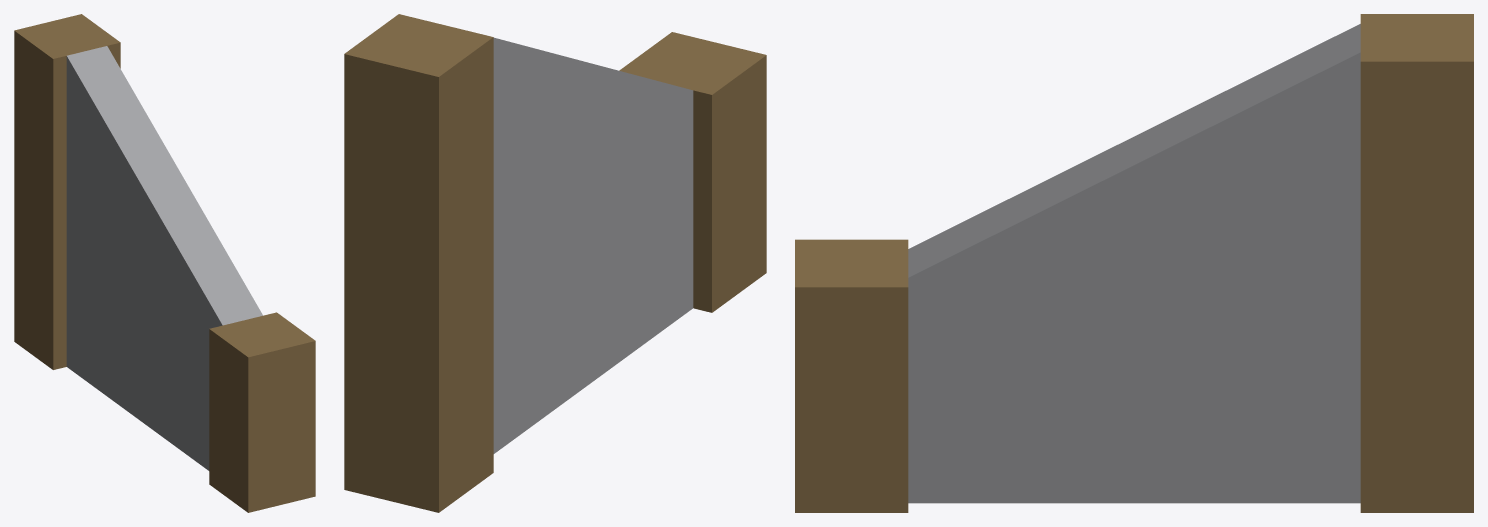
File: Wood_Slanted_Wall_01.obj
The picture shows the model from 3 angles, left to right: view 1: azimuth 30°, elevation 25°; view 2: azimuth 150°, elevation 25°; view 3: azimuth 270°, elevation 25°; orthographic projection. The views are drawn at different scales.
Visible parts, largest first — view 1: Mesh1_Wood_Slanted_Wall_Model; view 2: Mesh1_Wood_Slanted_Wall_Model; view 3: Mesh1_Wood_Slanted_Wall_Model.
Part boxes in pixels (<box>): Mesh1_Wood_Slanted_Wall_Model: <box>14,14,315,512</box>; Mesh1_Wood_Slanted_Wall_Model: <box>344,14,766,512</box>; Mesh1_Wood_Slanted_Wall_Model: <box>795,14,1473,512</box>.
Bounding box in the file's own units: 0.5 × 2.2 × 3.
